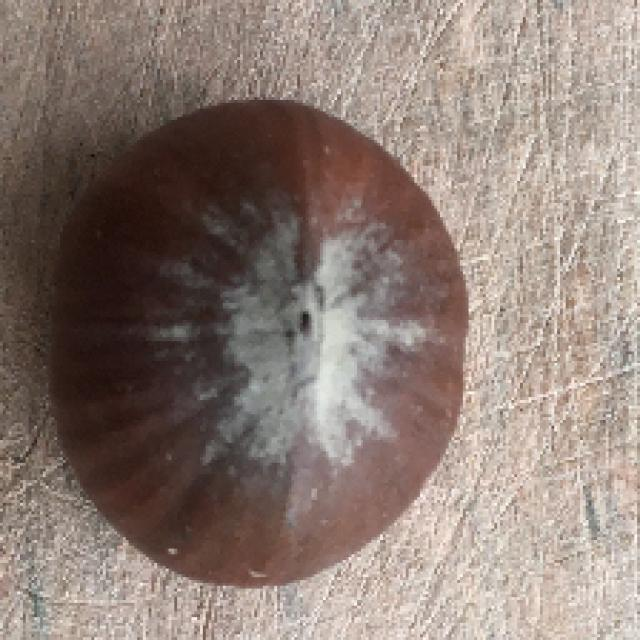damagedHazelnut: (44, 92, 469, 593)
